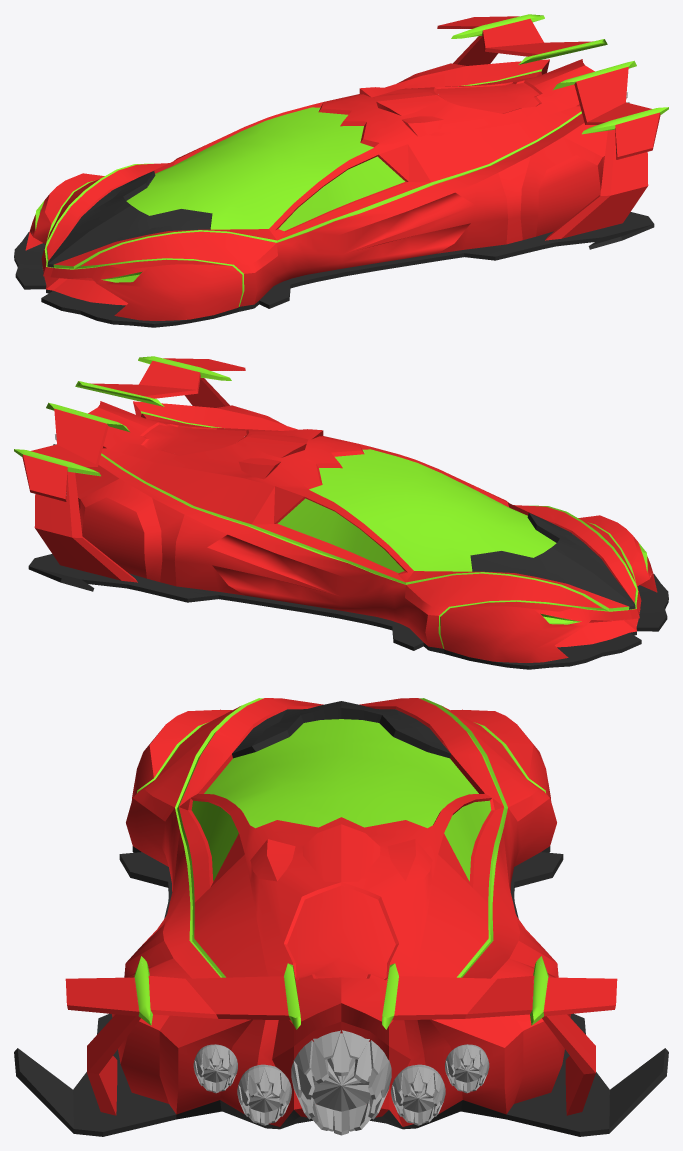
The model's file is Fafnir_v2.fbx.
3 views of the same model, one above another, from view 1: azimuth 30°, elevation 25°; view 2: azimuth 150°, elevation 25°; view 3: azimuth 270°, elevation 25° (orthographic). The views are drawn at different scales.
Visible parts, largest first — view 1: Car; view 2: Car; view 3: Car, Jet1, Jet2, Jet4, Jet3, Jet5.
Boxes of the visible parts, left/top/right/bottom form: Car: left=14, top=14, right=668, bottom=327; Car: left=14, top=356, right=668, bottom=669; Car: left=14, top=698, right=668, bottom=1136; Jet1: left=291, top=1030, right=391, bottom=1135; Jet2: left=391, top=1064, right=445, bottom=1125; Jet4: left=237, top=1064, right=291, bottom=1125; Jet3: left=445, top=1044, right=489, bottom=1093; Jet5: left=193, top=1044, right=237, bottom=1093.
Bounding box in the file's own units: 21.97 × 3.97 × 13.76.
5 materials, 4 textured.
